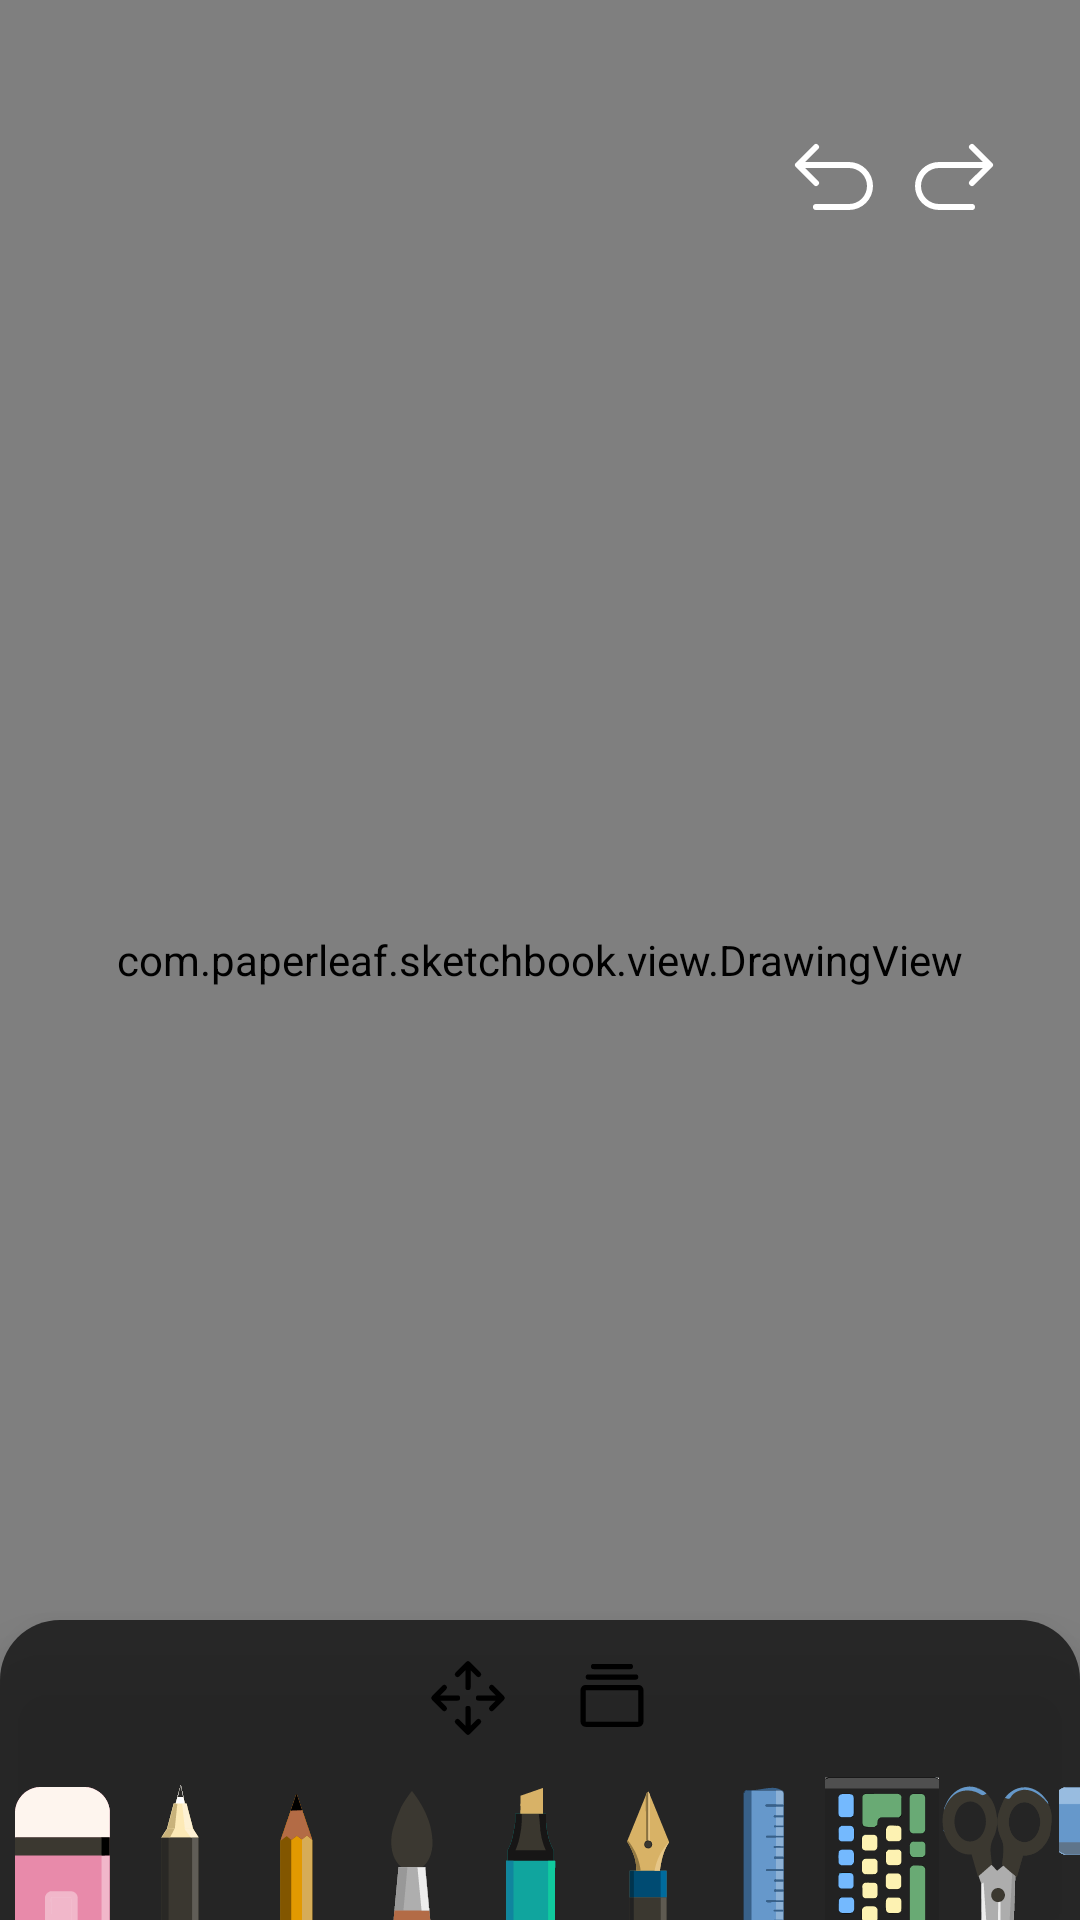

Where icons sit on this 1080w x 1920h app screen, as {"x1": x1, "y1": y1, "x2": x2, "y2": y2}:
eraser: {"x1": 15, "y1": 1787, "x2": 110, "y2": 1920}
ink pen: {"x1": 627, "y1": 1791, "x2": 669, "y2": 1920}
layers: {"x1": 581, "y1": 1664, "x2": 643, "y2": 1727}
marker: {"x1": 506, "y1": 1788, "x2": 556, "y2": 1920}
pen: {"x1": 161, "y1": 1785, "x2": 199, "y2": 1920}
pencil: {"x1": 280, "y1": 1794, "x2": 313, "y2": 1920}
redo: {"x1": 915, "y1": 144, "x2": 993, "y2": 210}
ruler: {"x1": 743, "y1": 1788, "x2": 784, "y2": 1920}
scissors: {"x1": 943, "y1": 1786, "x2": 1049, "y2": 1920}
transform: {"x1": 431, "y1": 1661, "x2": 505, "y2": 1735}
undo: {"x1": 795, "y1": 144, "x2": 873, "y2": 210}
